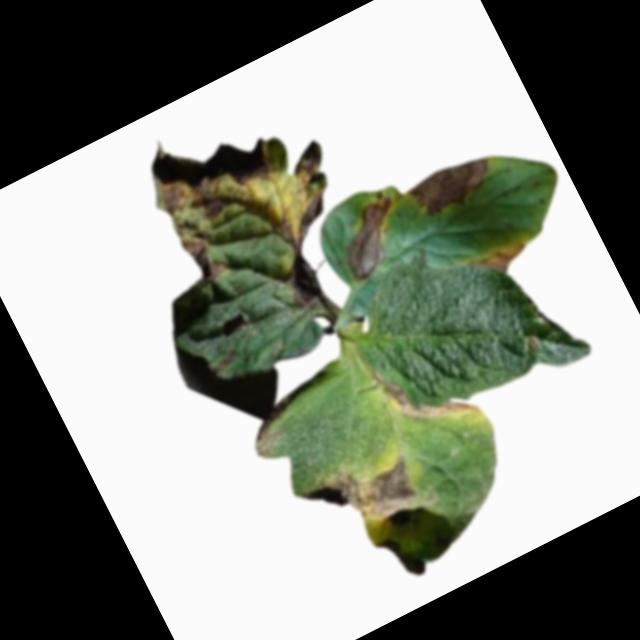Early_blight: (128, 80, 375, 350), (298, 441, 429, 550), (369, 334, 479, 444), (322, 185, 418, 284), (403, 144, 508, 229), (468, 234, 533, 285), (243, 414, 288, 462), (210, 348, 245, 376)
